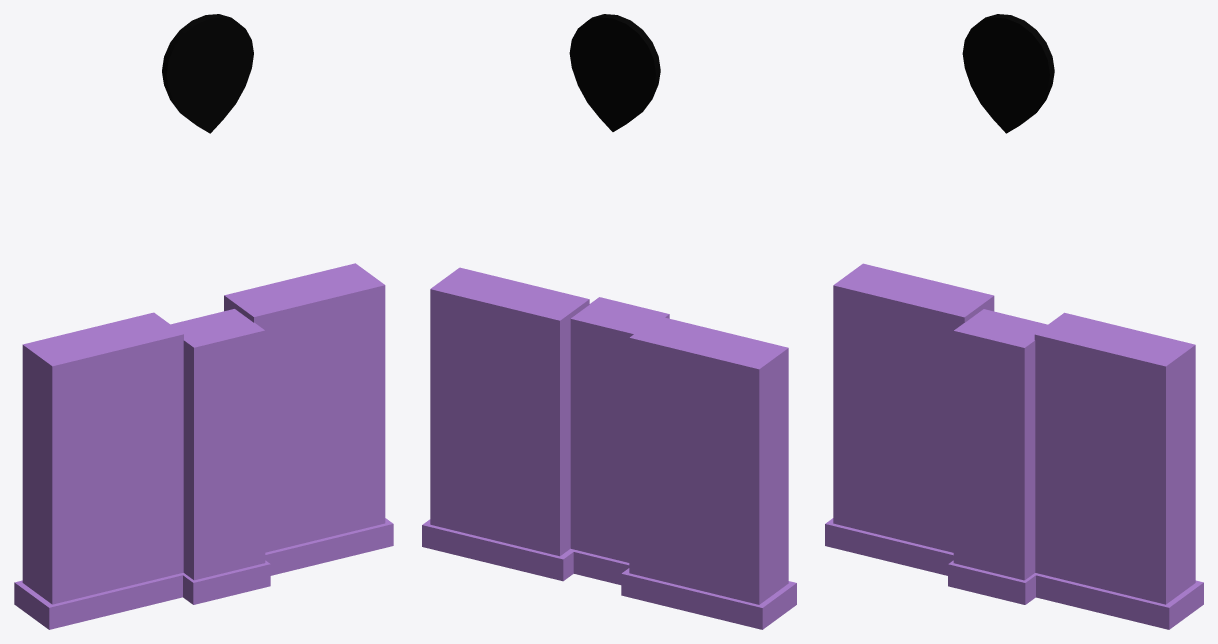
Rendered from location .gltf.
The picture shows the model from 3 angles, left to right: view 1: azimuth 30°, elevation 25°; view 2: azimuth 150°, elevation 25°; view 3: azimuth 330°, elevation 25°; orthographic projection.
Visible parts, largest first — view 1: group9_pasted__group8_pasted__pasted__group7_pasted__pasted_, pCylinder1; view 2: group9_pasted__group8_pasted__pasted__group7_pasted__pasted_, pCylinder1; view 3: group9_pasted__group8_pasted__pasted__group7_pasted__pasted_, pCylinder1.
Boxes of the visible parts, x1,y1,x2,y2 form: group9_pasted__group8_pasted__pasted__group7_pasted__pasted_: [14, 263, 393, 629]; pCylinder1: [162, 14, 253, 133]; group9_pasted__group8_pasted__pasted__group7_pasted__pasted_: [422, 267, 796, 629]; pCylinder1: [569, 14, 660, 131]; group9_pasted__group8_pasted__pasted__group7_pasted__pasted_: [825, 263, 1203, 629]; pCylinder1: [962, 14, 1054, 133].
Size of the model in its own units: 4.2 by 6.55 by 0.9566.
